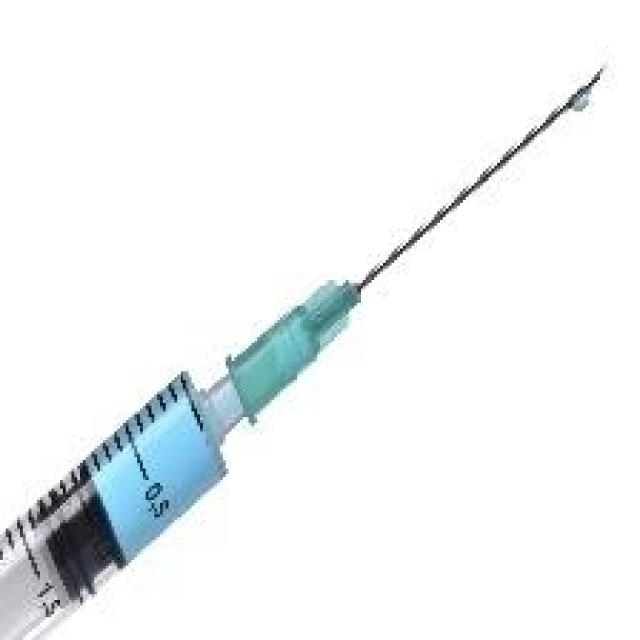syringe: (10, 75, 623, 640)
